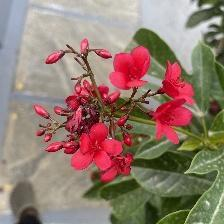jatropha: (112, 46, 154, 95)
